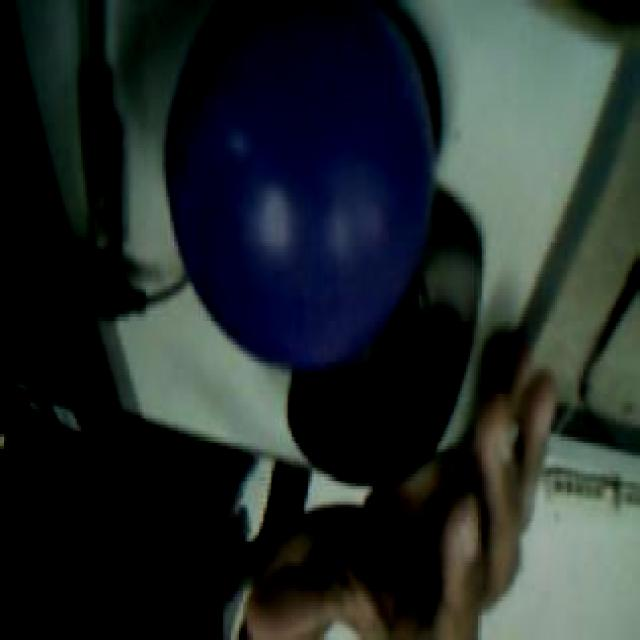BallPurple: (164, 0, 433, 366)
